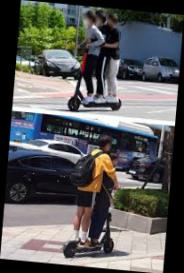multiple: (62, 130, 123, 263), (67, 7, 130, 114)
